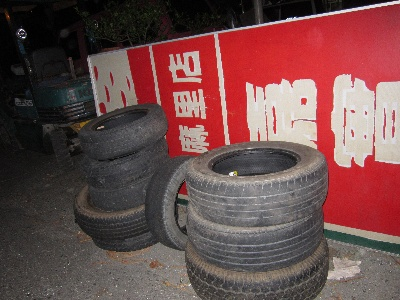tire: (185, 139, 332, 226), (185, 201, 325, 271), (184, 236, 330, 300), (78, 101, 169, 161), (79, 134, 170, 188), (71, 184, 154, 241)
